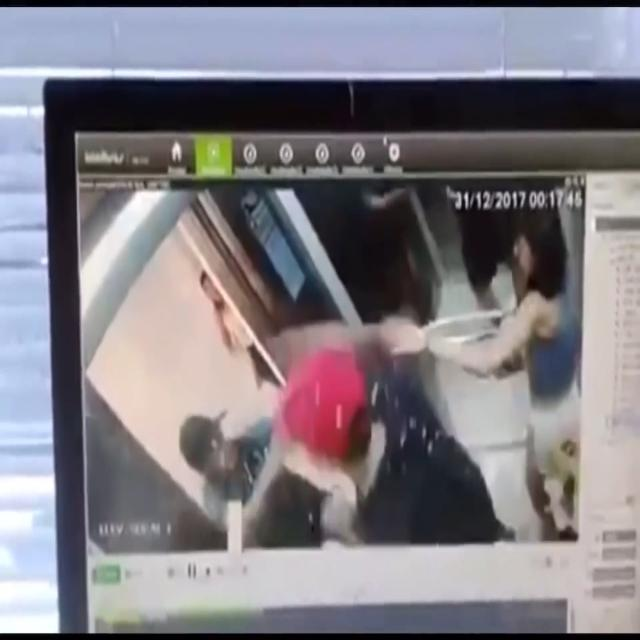fight: (164, 323, 464, 531)
